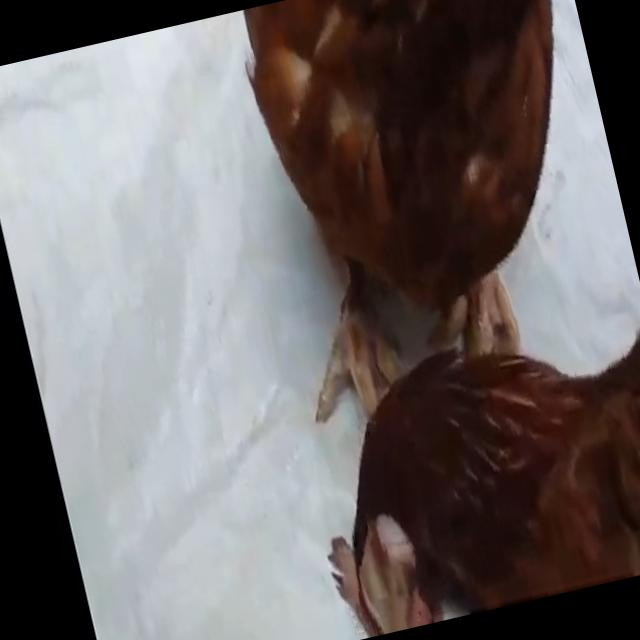dead: (269, 270, 640, 640)
